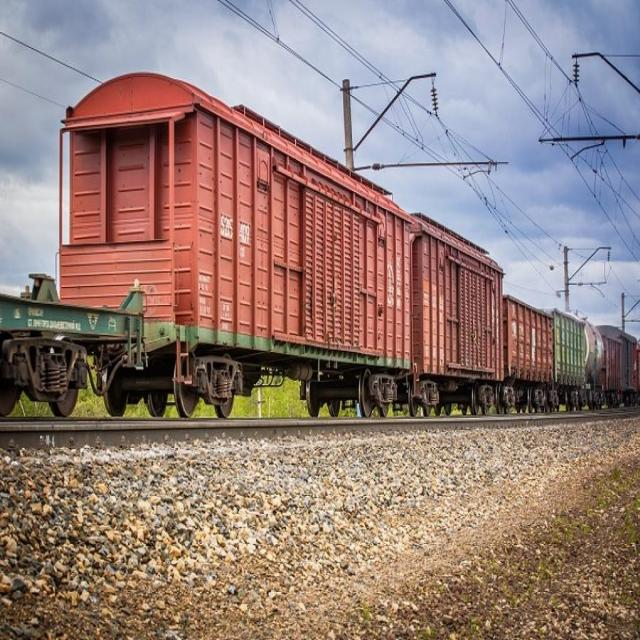boxcar: (53, 60, 413, 428), (412, 208, 506, 422)
flatcar: (0, 264, 153, 428)
gondola: (504, 289, 554, 424), (552, 307, 586, 418)
tank: (582, 314, 608, 413)
